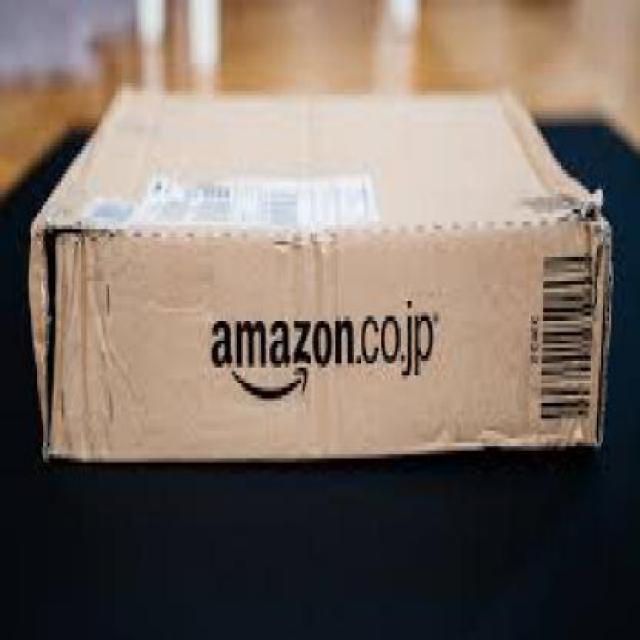cardboxes: (23, 85, 617, 473)
